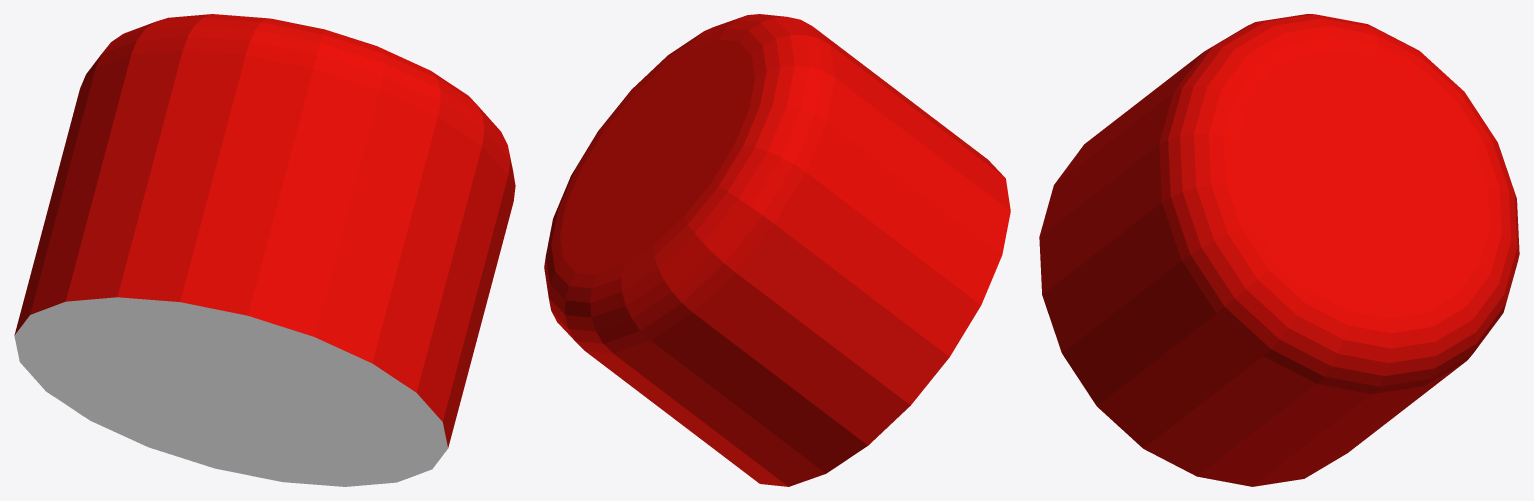
File: LaunchButton.glb
3 views of the same model, side by side, from view 1: azimuth 30°, elevation 25°; view 2: azimuth 150°, elevation 25°; view 3: azimuth 270°, elevation 25° (orthographic). The views are drawn at different scales.
Parts seen in each view (by area): view 1: Button; view 2: Button; view 3: Button.
Boxes of the visible parts, x1=… form: Button: x1=14, y1=14, x2=515, y2=486; Button: x1=544, y1=14, x2=1010, y2=486; Button: x1=1039, y1=14, x2=1519, y2=486.
Size of the model in its own units: 0.0998 by 0.0992 by 0.099.
